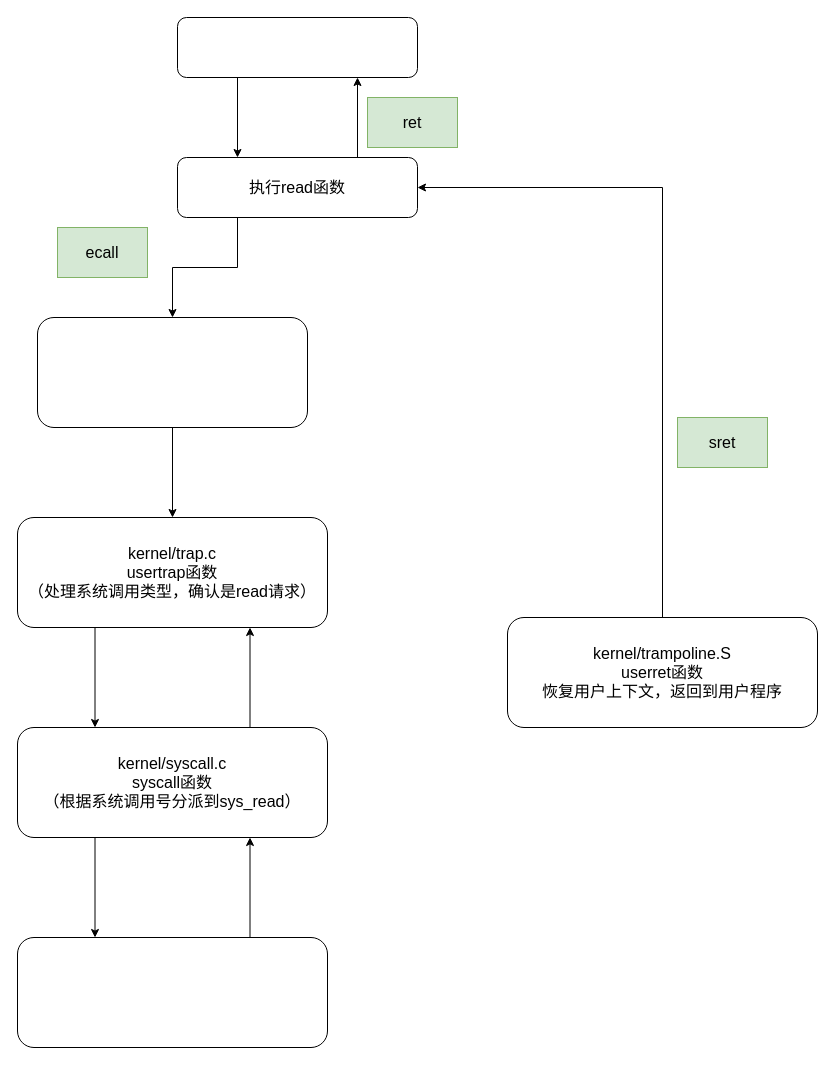
This 835x1065 diagram has some shape labels left out. Each missing label, with the centre of its shape:
"kernel/trampoline.S uservec函数 （保存用户寄存器并切换到内核栈）" goes at pixel 172 372.
"sys_read函数 （执行具体的文件读取操作）" goes at pixel 172 992.
"用户态执行read系统调用" goes at pixel 297 47.
